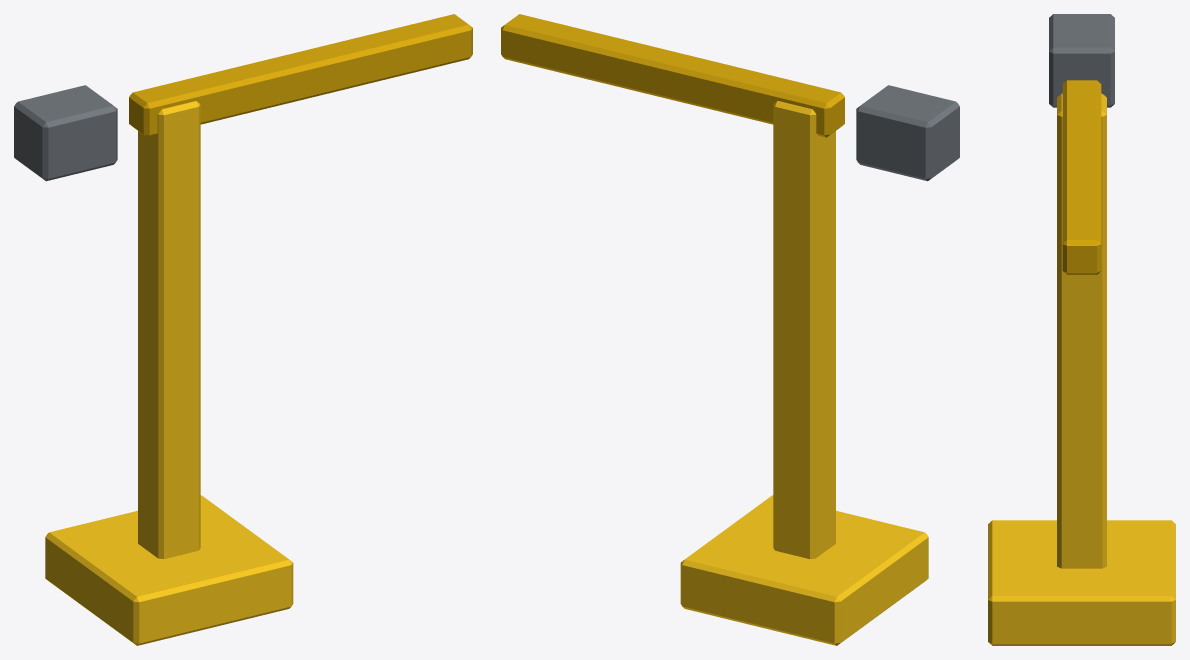
Rendered from crane.glb.
The picture shows the model from 3 angles, left to right: view 1: azimuth 30°, elevation 25°; view 2: azimuth 150°, elevation 25°; view 3: azimuth 270°, elevation 25°; orthographic projection.
Visible parts, largest first — view 1: crane; view 2: crane; view 3: crane.
Part boxes in pixels (bbox=[...]): crane: bbox=[14, 14, 472, 645]; crane: bbox=[501, 14, 959, 645]; crane: bbox=[988, 14, 1175, 645].
Size of the model in its own units: 0.93 by 1.05 by 0.34.
